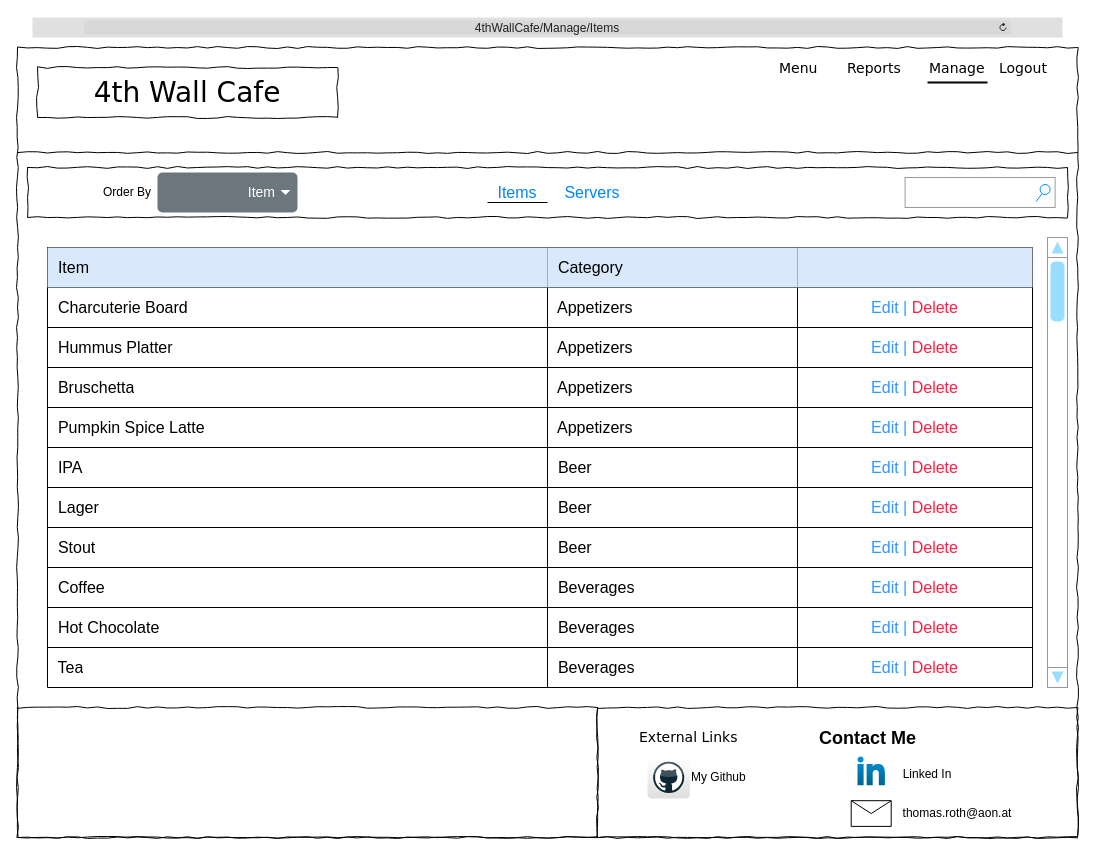
Some shapes in this 1095 by 855 pixel diagram are drawn without their labels. Each missing label, with the centre of its shape:
by Thomas Roth: point (307, 772)
Search: point (979, 192)
